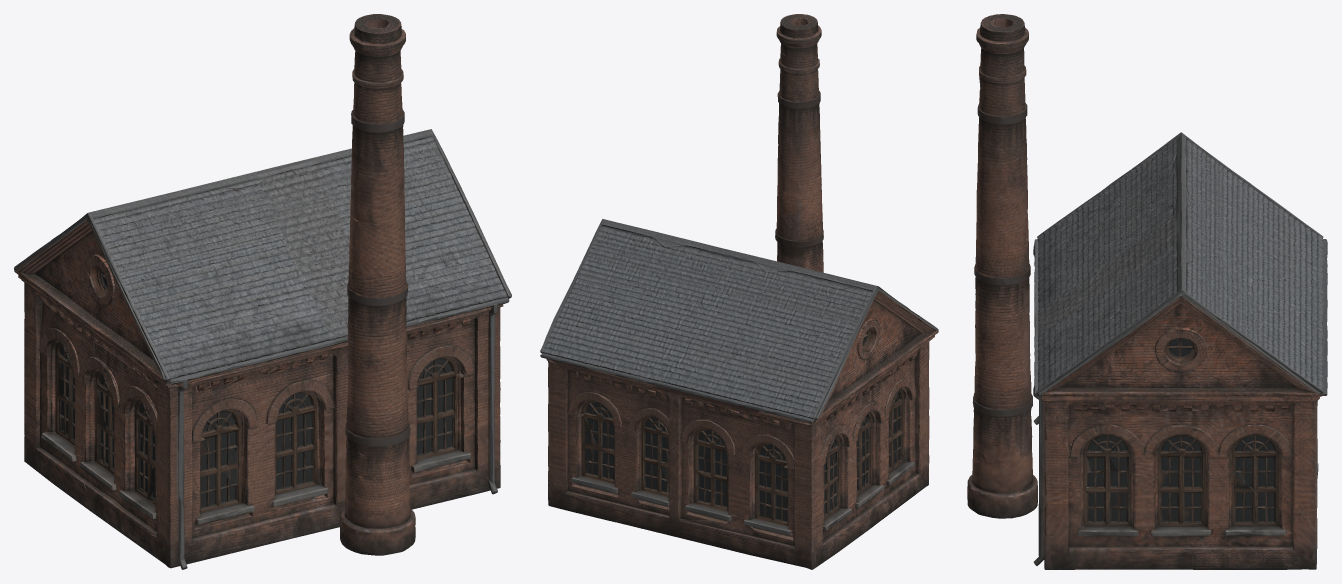
The model's file is mid_engine_house_gabled.glb.
3 views of the same model, side by side, from view 1: azimuth 30°, elevation 25°; view 2: azimuth 150°, elevation 25°; view 3: azimuth 270°, elevation 25° (orthographic). The views are drawn at different scales.
Bounding box in the file's own units: 1.35 × 1.9 × 1.29.
1 material, 1 textured.
